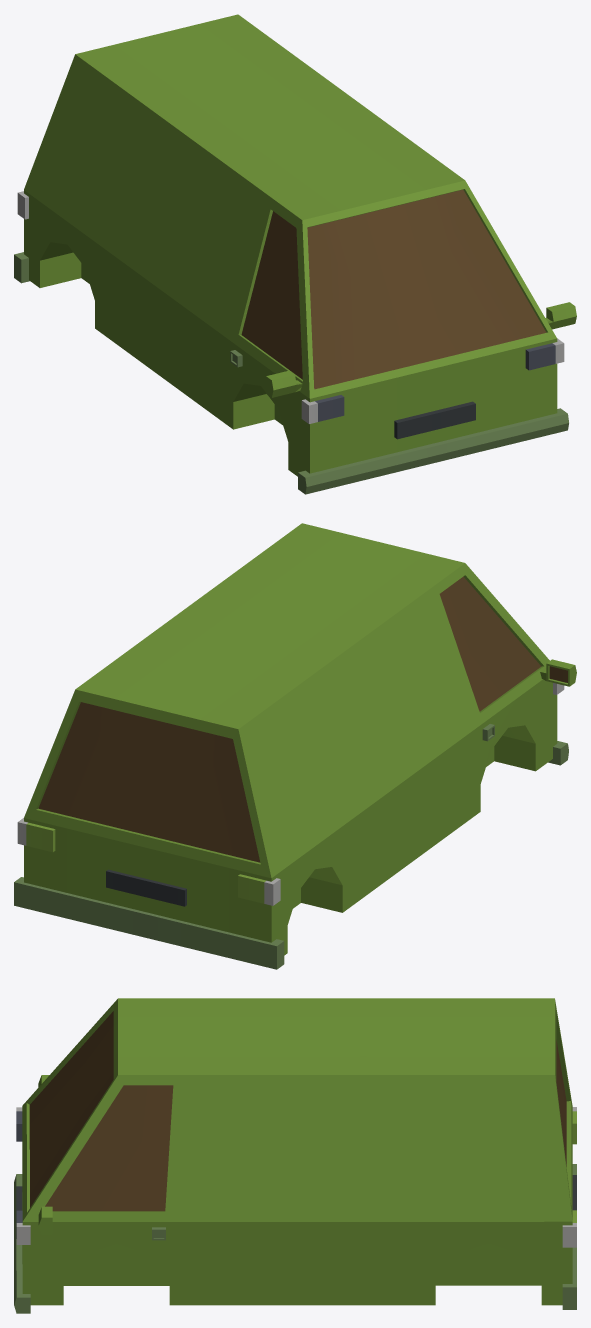
The model's file is Car_10.fbx.
The picture shows the model from 3 angles, top to bottom: view 1: azimuth 30°, elevation 25°; view 2: azimuth 150°, elevation 25°; view 3: azimuth 270°, elevation 25°; orthographic projection. The views are drawn at different scales.
Parts seen in each view (by area): view 1: Car_10; view 2: Car_10; view 3: Car_10.
Boxes of the visible parts, left/top/right/bottom form: Car_10: left=14, top=14, right=576, bottom=494; Car_10: left=14, top=523, right=576, bottom=969; Car_10: left=14, top=998, right=576, bottom=1313.
Size of the model in its own units: 2.14 by 1.51 by 3.57.
